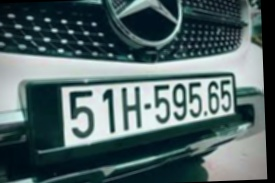Bien-so: (66, 78, 249, 149)
